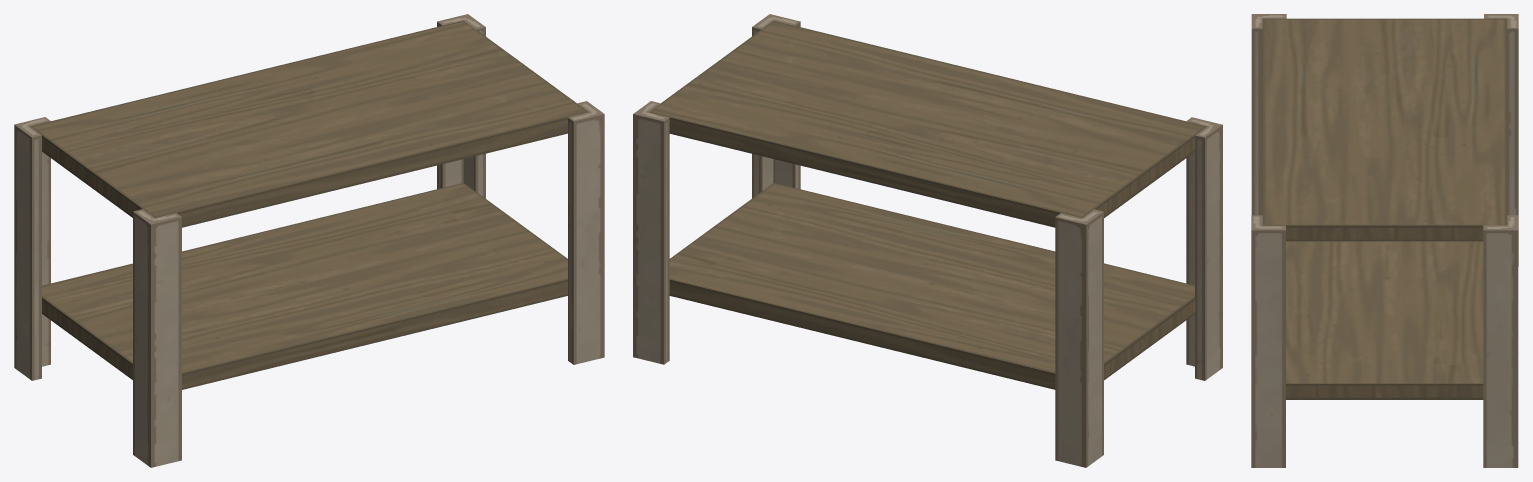
File: SM_kitchen_rack_02.glb
The picture shows the model from 3 angles, left to right: view 1: azimuth 30°, elevation 25°; view 2: azimuth 150°, elevation 25°; view 3: azimuth 270°, elevation 25°; orthographic projection. The views are drawn at different scales.
Visible parts, largest first — view 1: SM_kitchen_rack_02; view 2: SM_kitchen_rack_02; view 3: SM_kitchen_rack_02.
Part boxes in pixels (x1,y1,x2,y2): SM_kitchen_rack_02: [14, 14, 604, 467]; SM_kitchen_rack_02: [633, 14, 1222, 467]; SM_kitchen_rack_02: [1251, 14, 1518, 467].
Bounding box in the file's own units: 2.93 × 1.5 × 1.53.
2 materials, 2 textured.
